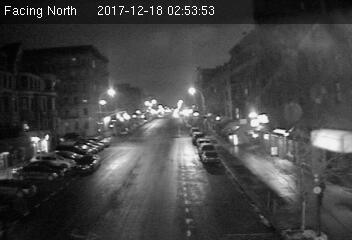car: (76, 152, 100, 174), (200, 150, 218, 164)
